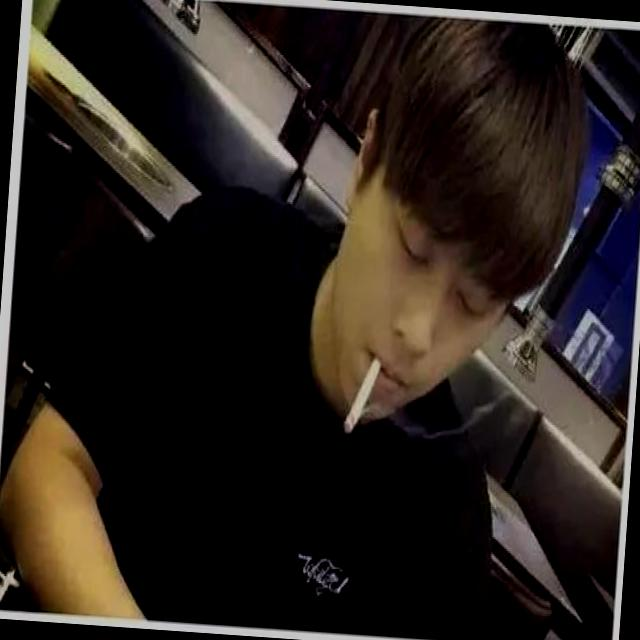smoke: (324, 323, 410, 464)
